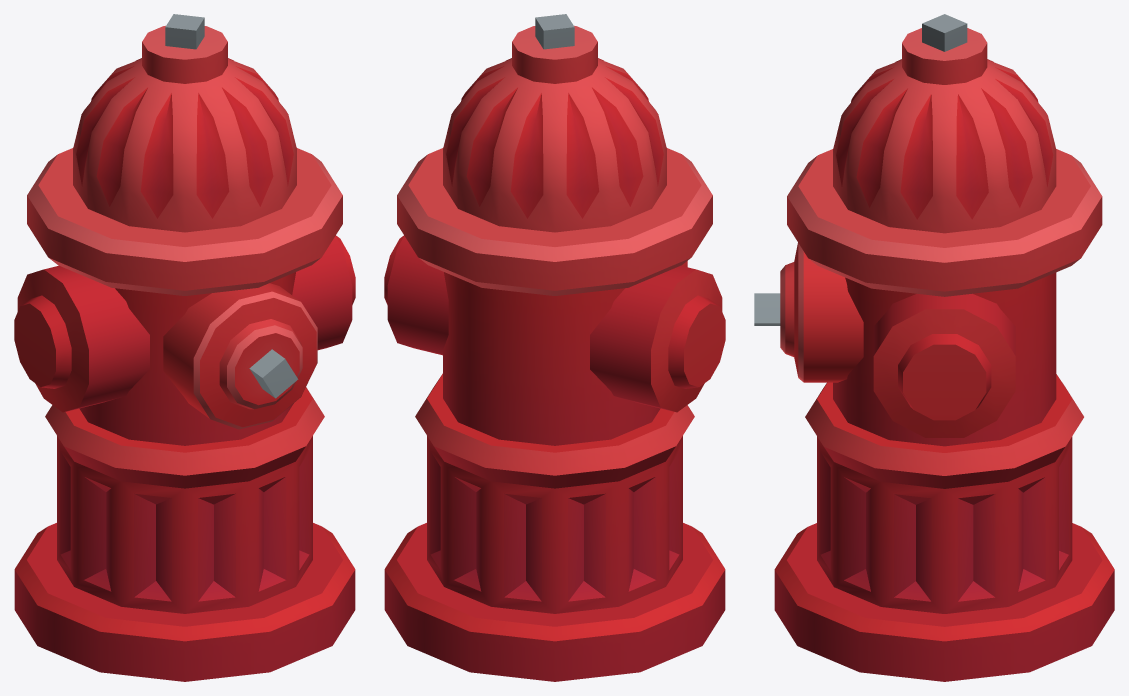
The model's file is fire_hydrant.fbx.
The picture shows the model from 3 angles, left to right: view 1: azimuth 30°, elevation 25°; view 2: azimuth 150°, elevation 25°; view 3: azimuth 270°, elevation 25°; orthographic projection.
Visible parts, largest first — view 1: fire_hydrant; view 2: fire_hydrant; view 3: fire_hydrant.
Boxes of the visible parts, x1,y1,x2,y2 form: fire_hydrant: [14, 14, 355, 681]; fire_hydrant: [384, 14, 725, 681]; fire_hydrant: [754, 14, 1114, 681].
Bounding box in the file's own units: 64.53 × 121 × 67.43.
